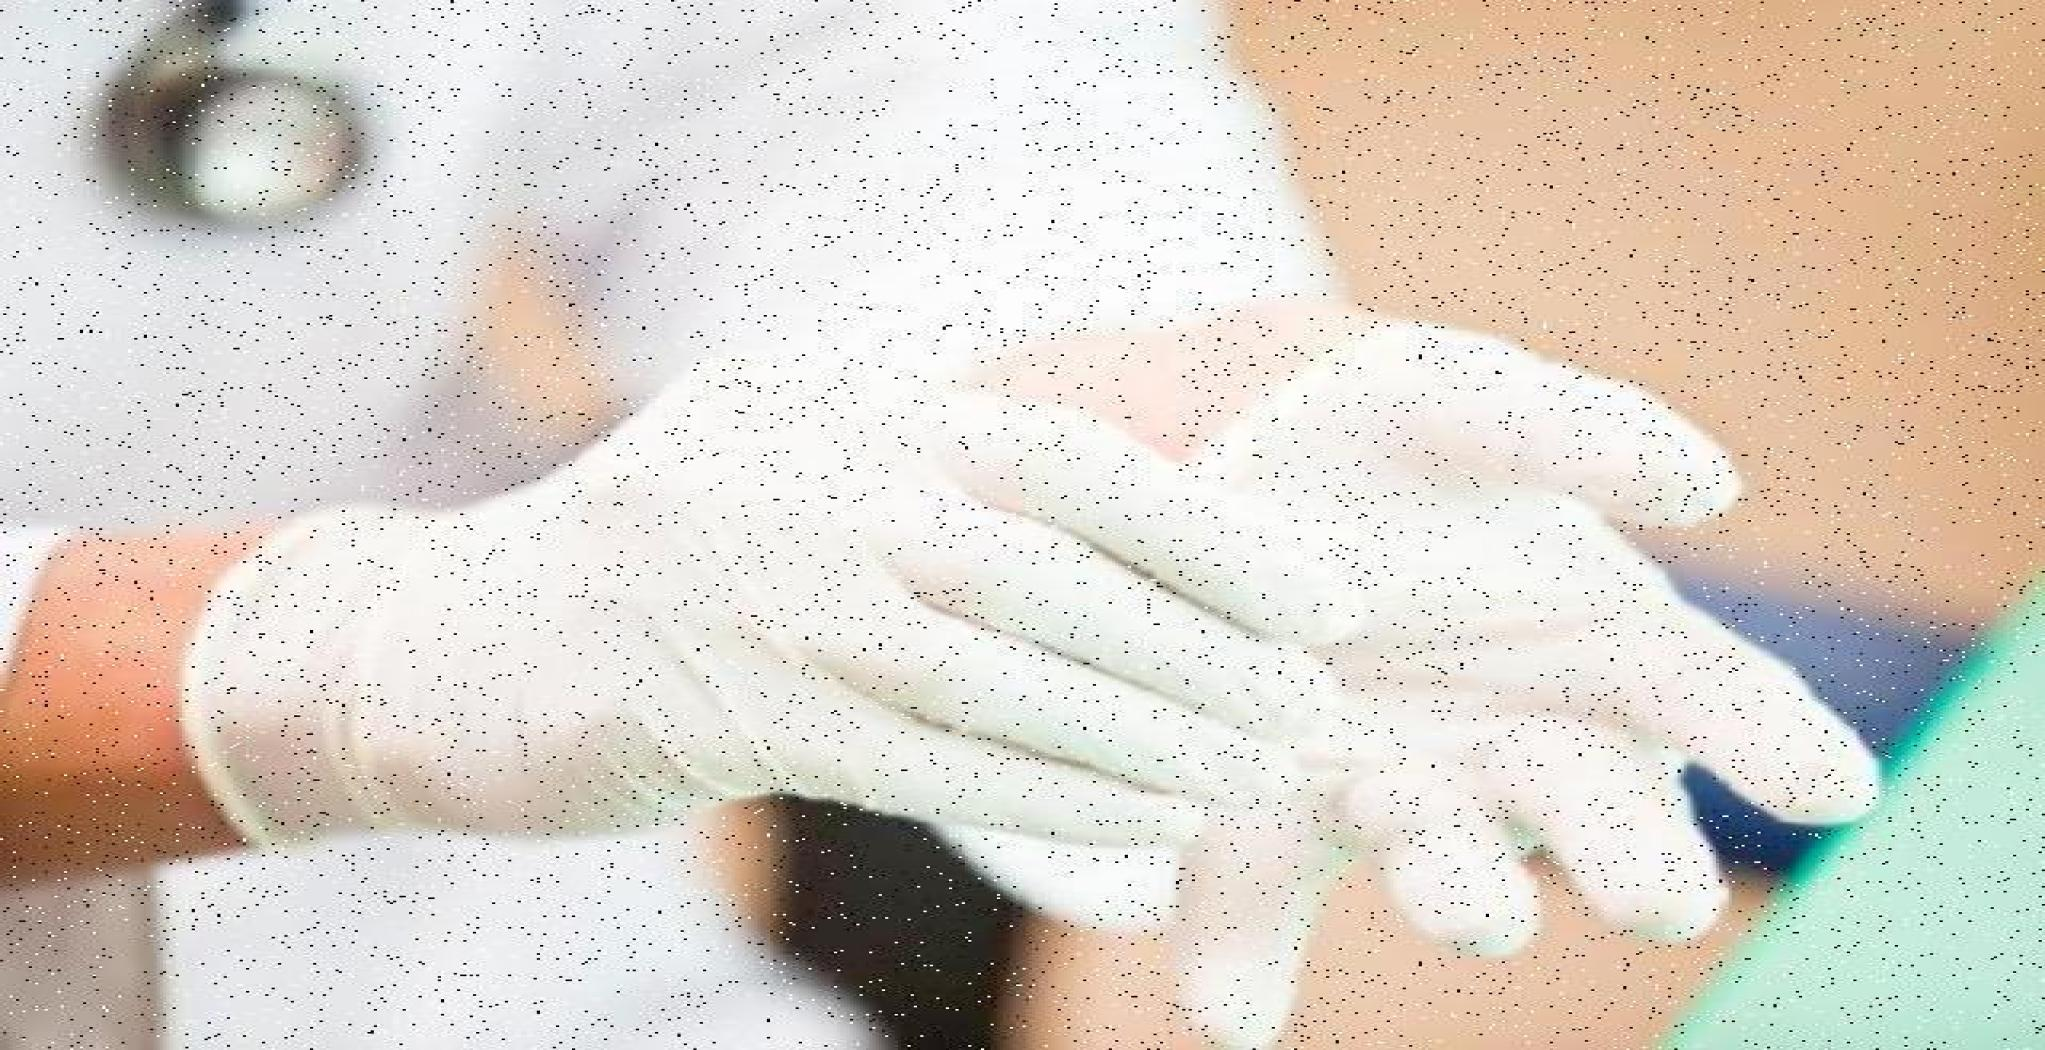gloved: (313, 396, 1814, 923)
